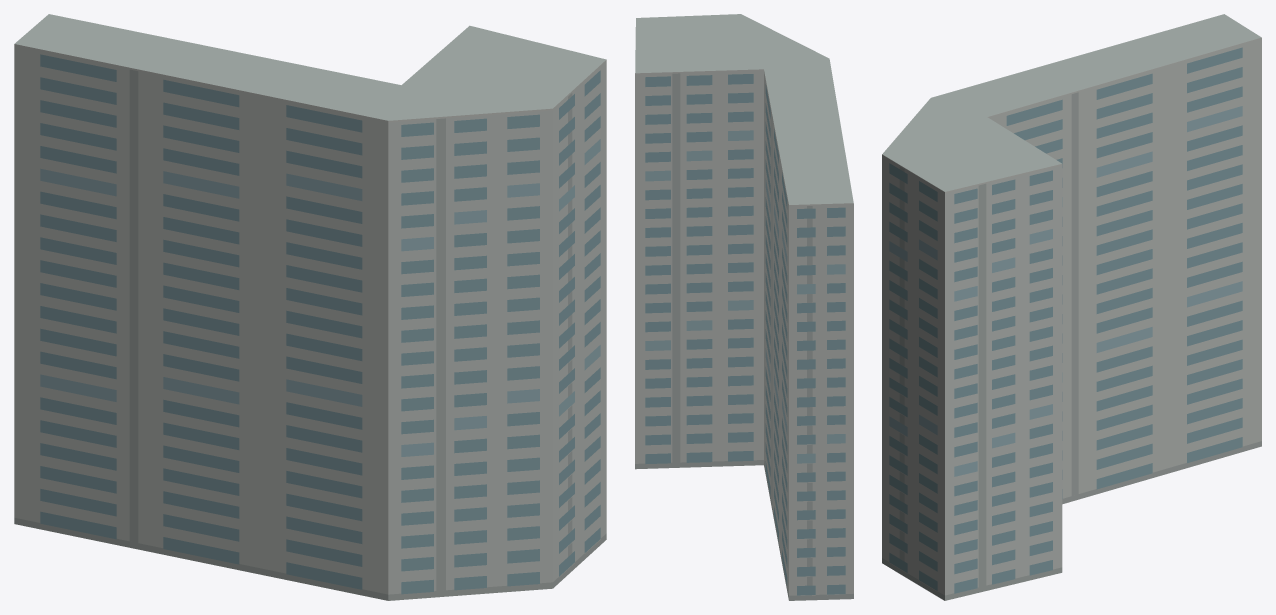
The model's file is residential-b913ed4c-395b-4f64-b08b-a3ba3f8f2eed.glb.
3 renders of one model, left to right at view 1: azimuth 30°, elevation 25°; view 2: azimuth 150°, elevation 25°; view 3: azimuth 270°, elevation 25°, orthographic. The views are drawn at different scales.
Parts seen in each view (by area): view 1: residential-b913ed4c-395b-4f64-b08b-a3ba3f8f2eed.tmp; view 2: residential-b913ed4c-395b-4f64-b08b-a3ba3f8f2eed.tmp; view 3: residential-b913ed4c-395b-4f64-b08b-a3ba3f8f2eed.tmp.
Part boxes in pixels (x1,y1,x2,y2): residential-b913ed4c-395b-4f64-b08b-a3ba3f8f2eed.tmp: [14, 14, 606, 600]; residential-b913ed4c-395b-4f64-b08b-a3ba3f8f2eed.tmp: [635, 14, 853, 600]; residential-b913ed4c-395b-4f64-b08b-a3ba3f8f2eed.tmp: [882, 14, 1261, 600].
Bounding box in the file's own units: 59.76 × 64 × 53.88.
